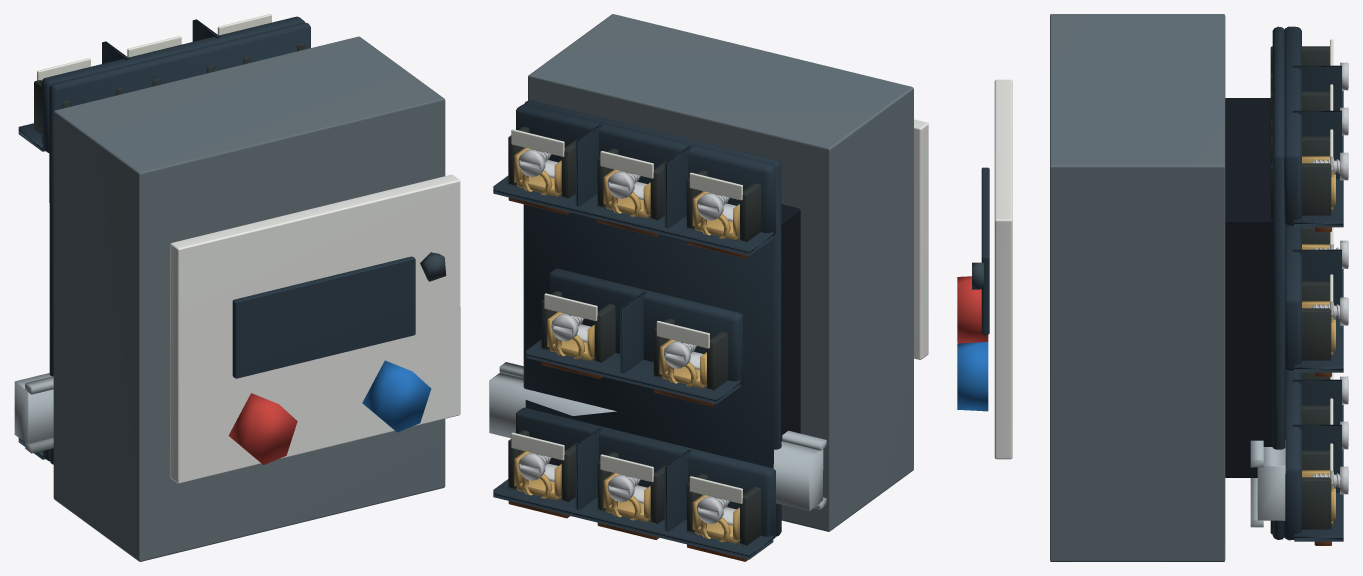
The model's file is overload_default.low.glb.
3 renders of one model, left to right at view 1: azimuth 30°, elevation 25°; view 2: azimuth 150°, elevation 25°; view 3: azimuth 270°, elevation 25°, orthographic. The views are drawn at different scales.
Parts seen in each view (by area): view 1: part:body, part:cover, part:terminals · Original a463fd81, part:mounting · Original 2a8198d3, part:body.001; view 2: part:body, part:terminals · Original a463fd81, part:mounting · Original 2a8198d3, part:cover, detail:terminal-clamp:96 · Detail moulded engineering polyme, detail:terminal-clamp:1 · Detail moulded engineering polymer, detail:terminal-clamp:2 · Detail moulded engineering polymer, detail:terminal-clamp:95 · Detail moulded engineering polyme, detail:terminal-clamp:3 · Detail moulded engineering polymer, detail:terminal-clamp:6 · Detail moulded engineering polymer, detail:terminal-clamp:5 · Detail moulded engineering polymer, detail:terminal-clamp:4 · Detail moulded engineering polymer (+24 smaller); view 3: part:body, part:terminals · Original a463fd81, part:cover, part:mounting · Original 2a8198d3, detail:terminal-clamp:5 · Detail moulded engineering polymer, detail:terminal-clamp:6 · Detail moulded engineering polymer, detail:terminal-clamp:96 · Detail moulded engineering polyme, detail:terminal-clamp:1 · Detail moulded engineering polymer, detail:terminal-clamp:3 · Detail moulded engineering polymer, detail:terminal-clamp:4 · Detail moulded engineering polymer.
Part boxes in pixels (<box>): part:body: <box>53,36,445,561</box>; part:cover: <box>170,174,460,483</box>; part:terminals · Original a463fd81: <box>18,16,310,464</box>; part:mounting · Original 2a8198d3: <box>14,373,53,453</box>; part:body.001: <box>420,252,446,281</box>; part:body: <box>528,14,913,531</box>; part:terminals · Original a463fd81: <box>493,100,781,559</box>; part:mounting · Original 2a8198d3: <box>489,362,826,511</box>; part:cover: <box>914,119,928,359</box>; detail:terminal-clamp:96 · Detail moulded engineering polyme: <box>541,291,615,363</box>; detail:terminal-clamp:1 · Detail moulded engineering polymer: <box>686,170,760,242</box>; detail:terminal-clamp:2 · Detail moulded engineering polymer: <box>686,473,760,545</box>; detail:terminal-clamp:95 · Detail moulded engineering polyme: <box>653,318,727,390</box>; detail:terminal-clamp:3 · Detail moulded engineering polymer: <box>597,148,666,220</box>; detail:terminal-clamp:6 · Detail moulded engineering polymer: <box>508,430,577,502</box>; detail:terminal-clamp:5 · Detail moulded engineering polymer: <box>508,126,577,198</box>; detail:terminal-clamp:4 · Detail moulded engineering polymer: <box>597,452,666,524</box>; part:body: <box>1050,14,1272,561</box>; part:terminals · Original a463fd81: <box>1272,26,1343,541</box>; part:cover: <box>957,79,1012,459</box>; part:mounting · Original 2a8198d3: <box>1250,440,1285,527</box>; detail:terminal-clamp:5 · Detail moulded engineering polymer: <box>1270,136,1332,218</box>; detail:terminal-clamp:6 · Detail moulded engineering polymer: <box>1270,450,1332,534</box>; detail:terminal-clamp:96 · Detail moulded engineering polyme: <box>1302,281,1332,360</box>; detail:terminal-clamp:1 · Detail moulded engineering polymer: <box>1270,46,1329,91</box>; detail:terminal-clamp:3 · Detail moulded engineering polymer: <box>1270,91,1329,136</box>; detail:terminal-clamp:4 · Detail moulded engineering polymer: <box>1302,405,1329,424</box>.
Bounding box in the file's own units: 0.7009 × 0.8012 × 0.7151.
